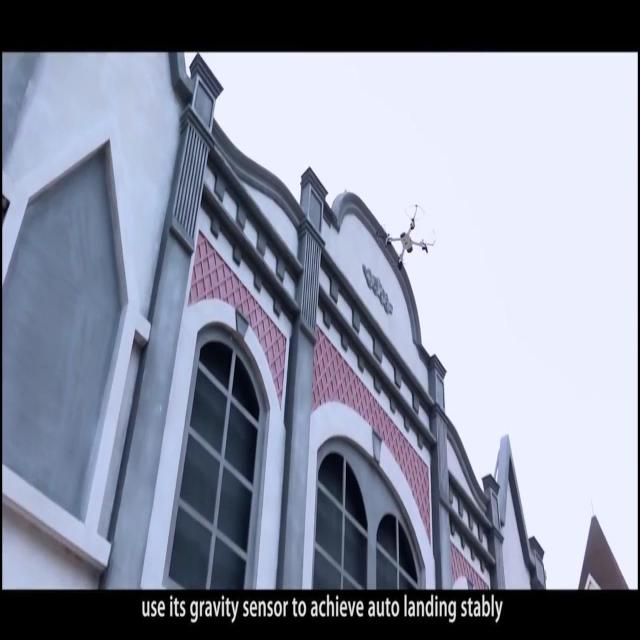drone: (379, 198, 437, 272)
